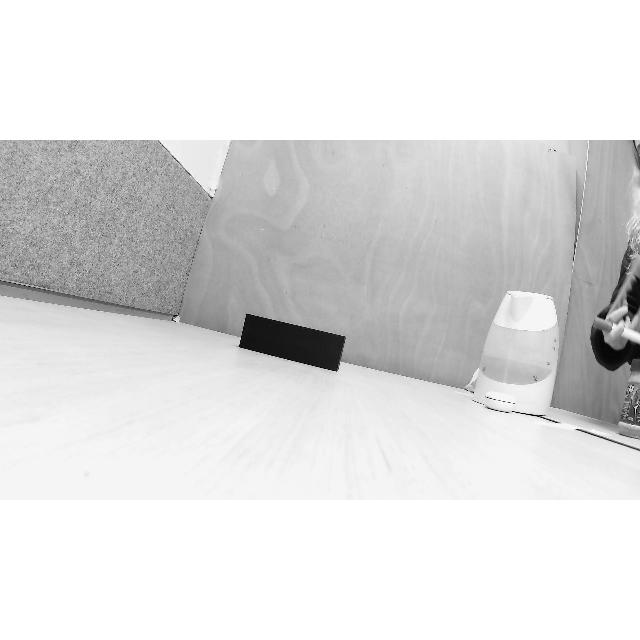targets: (470, 288, 562, 416), (237, 312, 347, 376)
